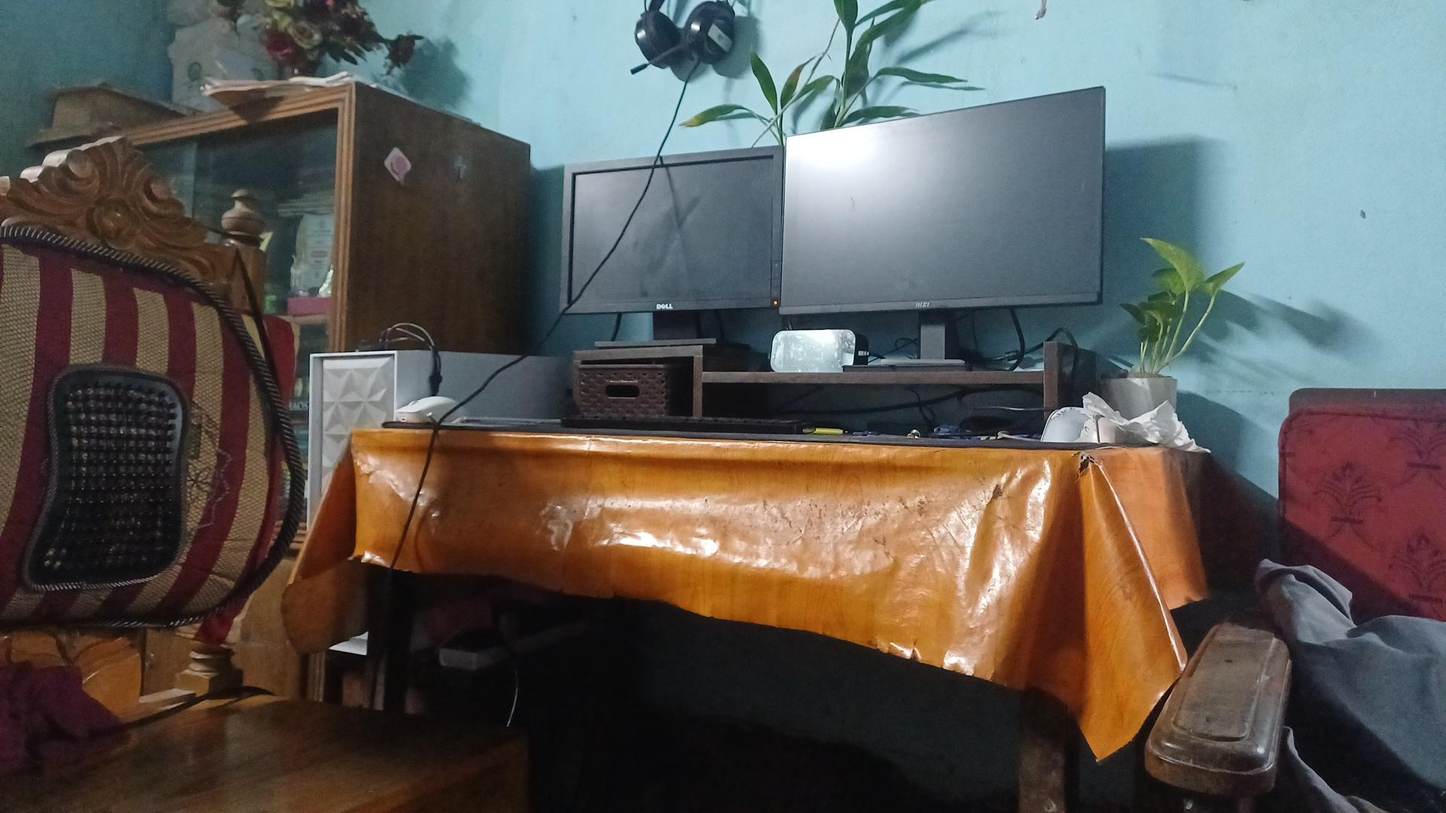Chair: (18, 141, 435, 792)
Clock: (763, 333, 865, 373)
Monitor: (772, 134, 1123, 325), (542, 155, 788, 330)
Mouse: (399, 385, 480, 443), (1038, 386, 1096, 457)
Plant: (1109, 233, 1214, 456)
